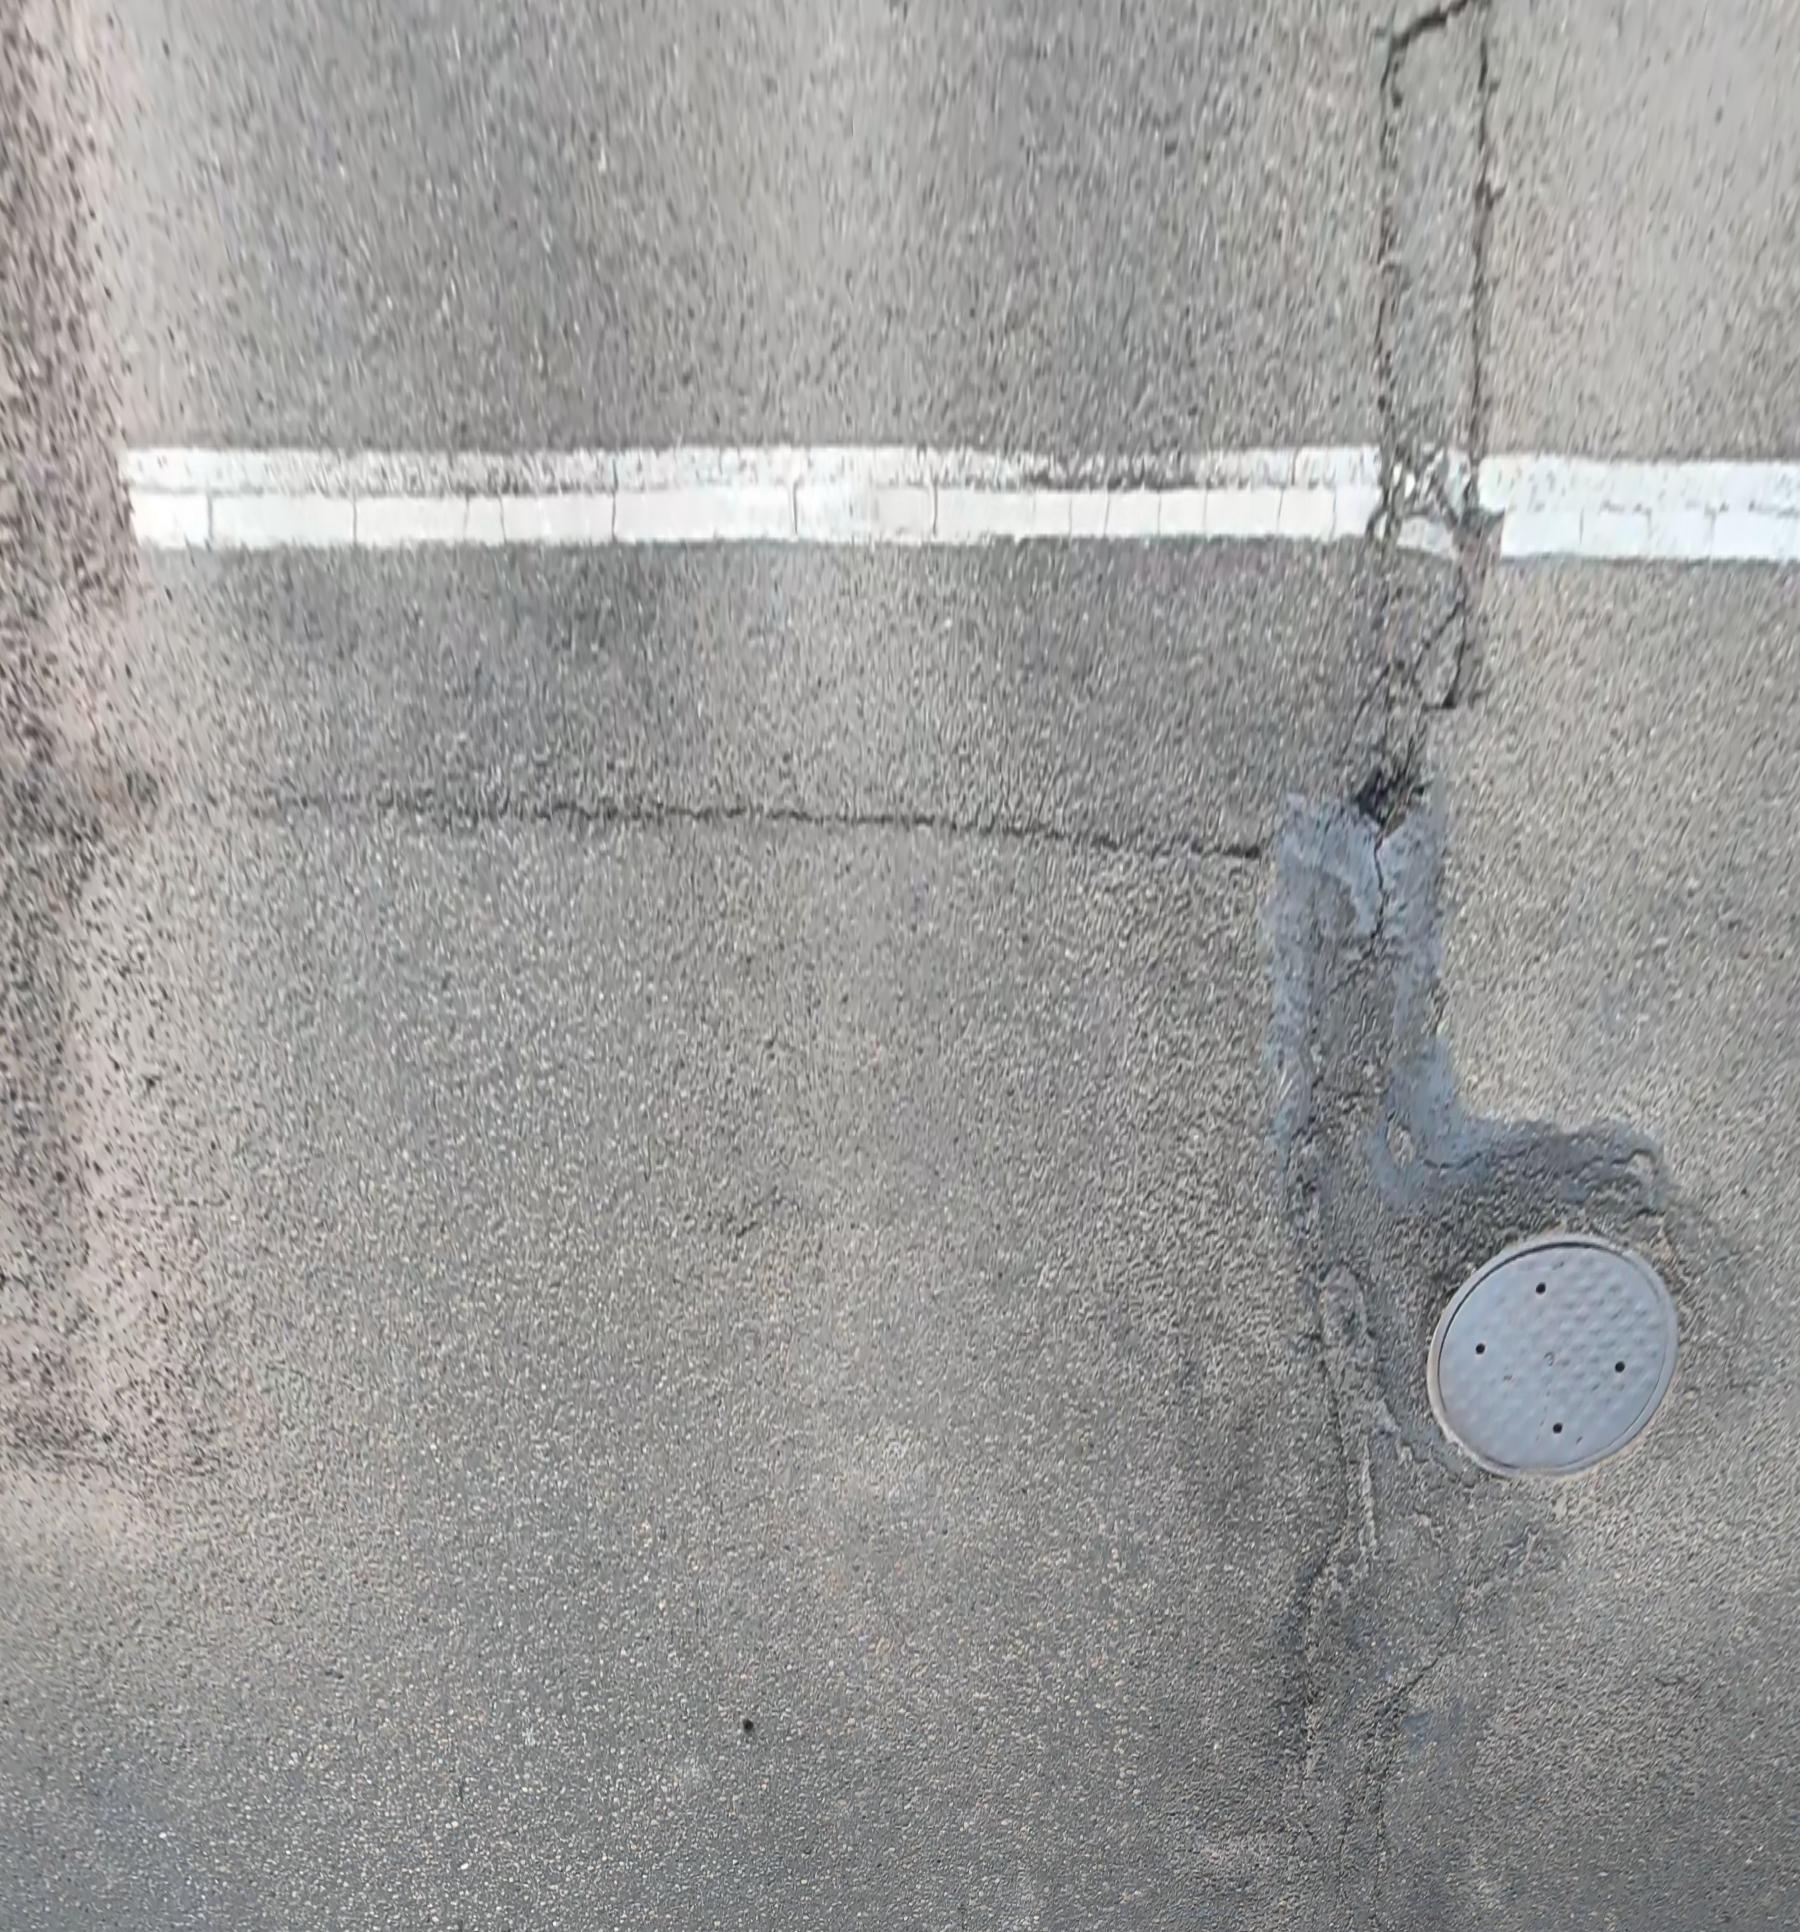pothole: (1355, 758, 1433, 831)
pothole_patch_poor: (1269, 787, 1671, 1455)
